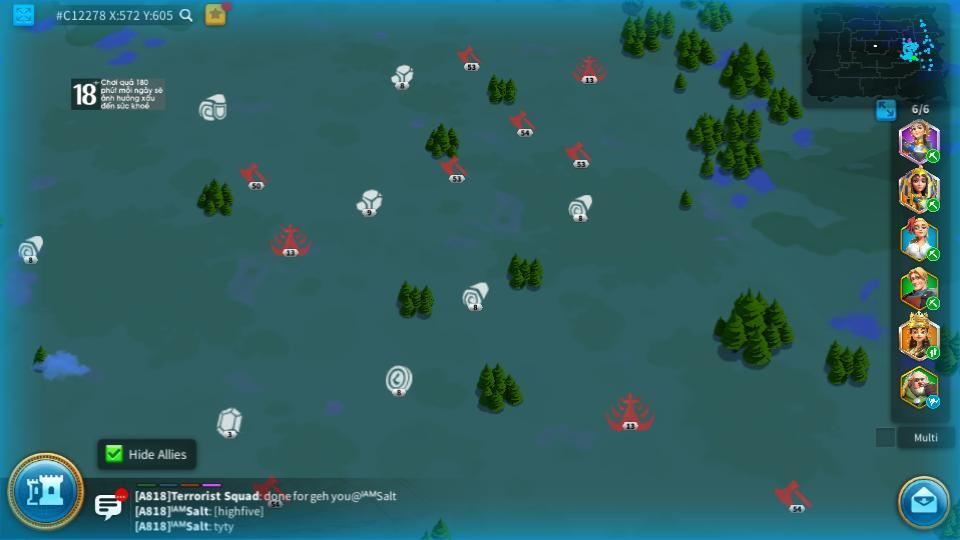gem-z-out: (215, 406, 243, 437)
march_farming: (925, 197, 941, 212), (925, 345, 941, 359), (924, 248, 939, 260), (925, 297, 941, 308)
march_idle: (925, 396, 942, 408)
march_marching: (925, 150, 941, 162)
